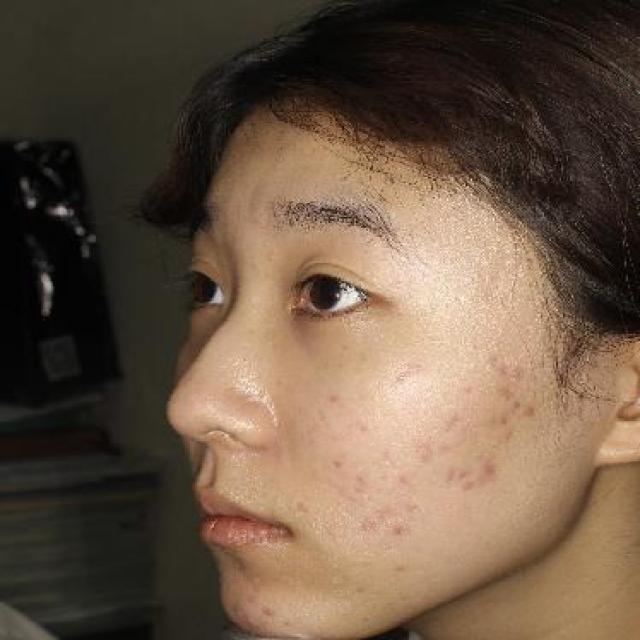dark spot: (406, 438, 450, 468), (472, 457, 508, 485), (514, 400, 542, 429), (318, 386, 348, 409)
